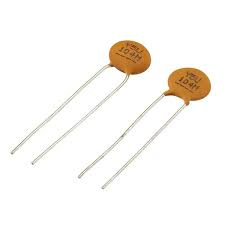ceramic capacitor: (152, 58, 218, 137), (81, 28, 161, 88)
